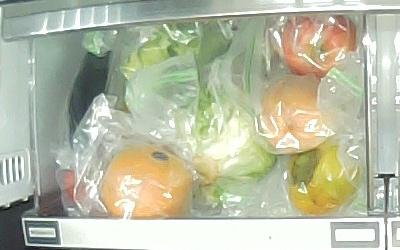apple_vinyl: (282, 14, 357, 78)
broccoli_vinyl: (116, 19, 231, 80)
eggplant_vinyl: (68, 51, 112, 153)
grapefruit_vinyl: (98, 145, 192, 219)
lettuce_vinyl: (193, 90, 276, 197)
peach_vinyl: (259, 81, 335, 155)
persimmon_vinyl: (288, 138, 361, 214)
